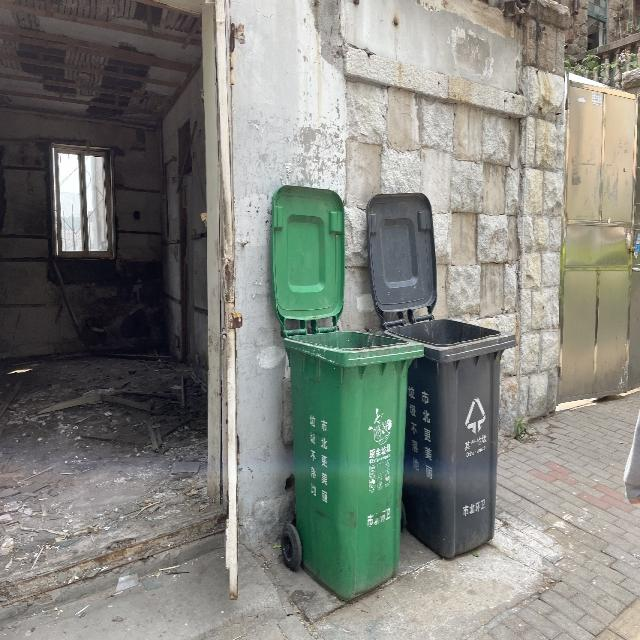garbage_bin: (284, 328, 423, 602), (386, 316, 516, 558)
